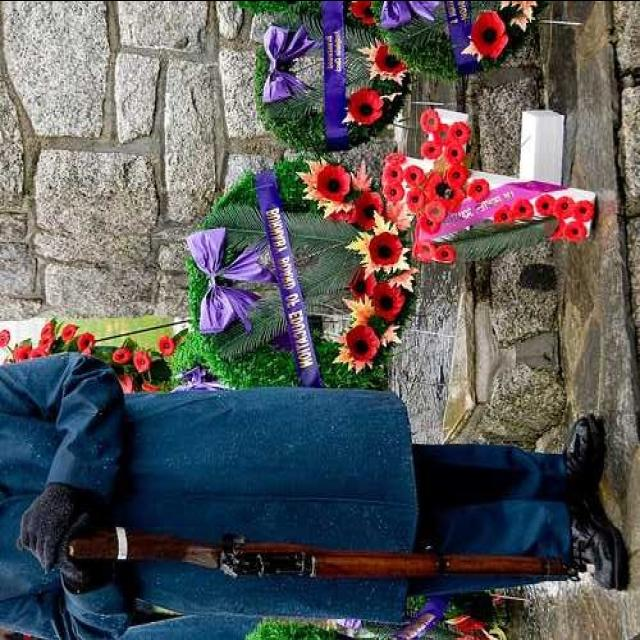heavyweapon: (54, 526, 588, 596)
